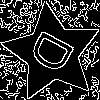D: (27, 28, 84, 81)
